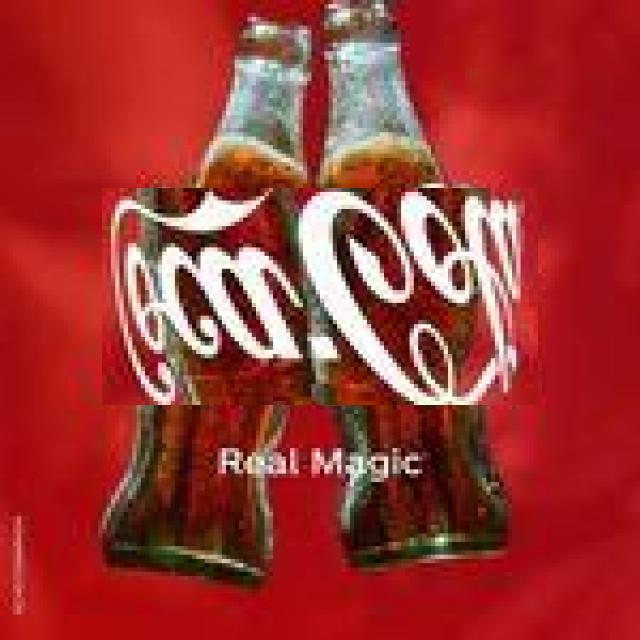coca-cola: (102, 188, 538, 405)
